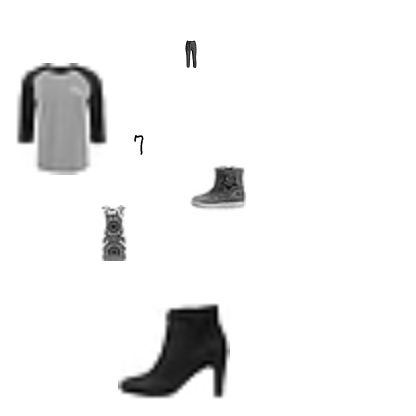7: (125, 128, 153, 156)
Ankle_boot: (118, 293, 230, 405), (190, 160, 246, 216)
Dress: (84, 205, 140, 261)
T-shirt/top: (6, 63, 118, 175)
Trouser: (177, 40, 205, 68)
